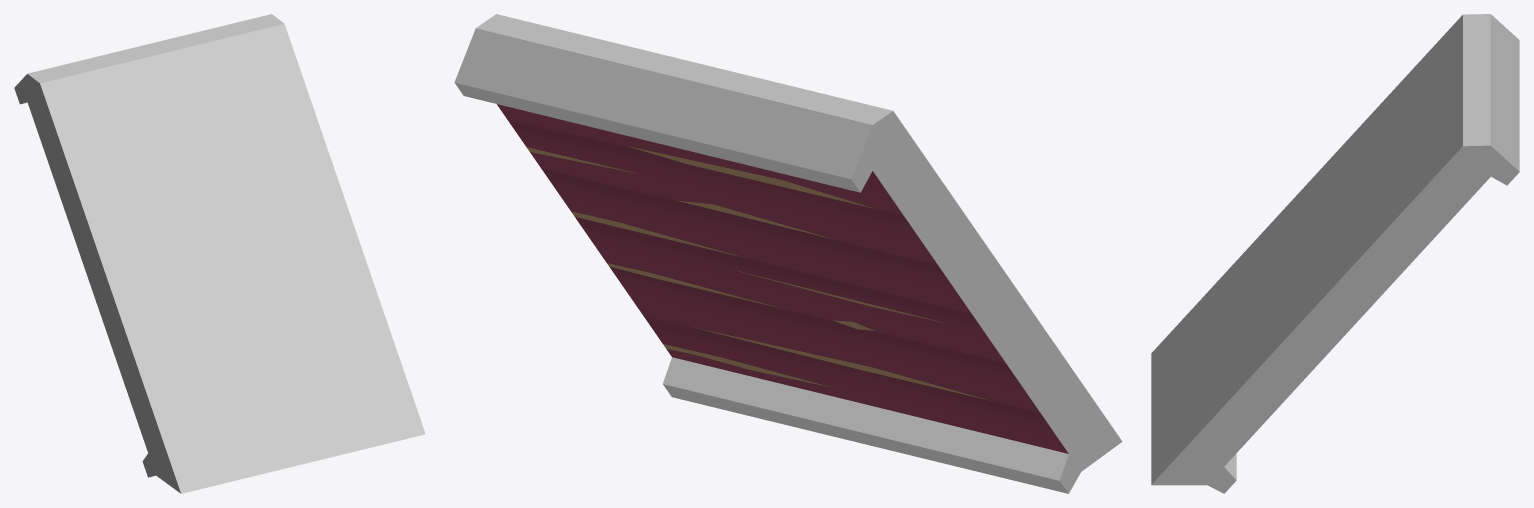
Rendered from SM_Bld_Roof_S_Straight_01.fbx.
The picture shows the model from 3 angles, left to right: view 1: azimuth 30°, elevation 25°; view 2: azimuth 150°, elevation 25°; view 3: azimuth 270°, elevation 25°; orthographic projection. The views are drawn at different scales.
Parts seen in each view (by area): view 1: SM_Bld_Roof_S_Straight_01; view 2: SM_Bld_Roof_S_Straight_01; view 3: SM_Bld_Roof_S_Straight_01.
Part boxes in pixels (x1,y1,x2,y2): SM_Bld_Roof_S_Straight_01: (14,14,425,493); SM_Bld_Roof_S_Straight_01: (454,14,1122,493); SM_Bld_Roof_S_Straight_01: (1151,14,1519,493).
Bounding box in the file's own units: 125 × 154 × 148.
